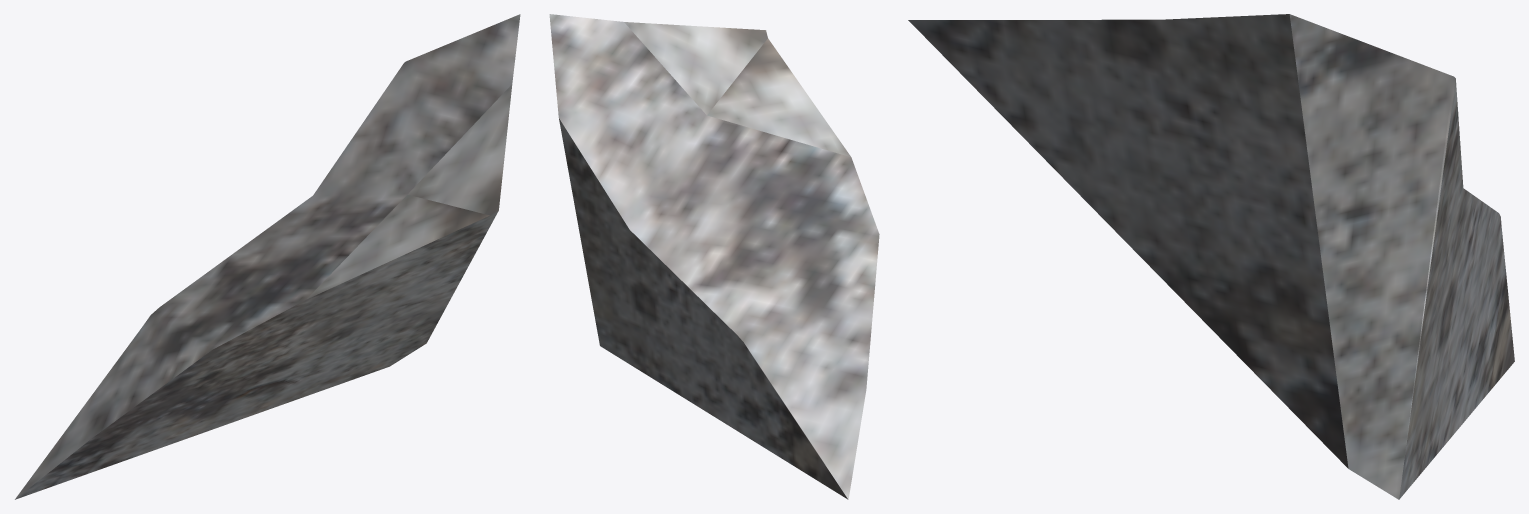
Rendered from Asteroid_Large_001_02_011_03_012.fbx.
3 renders of one model, left to right at view 1: azimuth 30°, elevation 25°; view 2: azimuth 150°, elevation 25°; view 3: azimuth 270°, elevation 25°, orthographic. The views are drawn at different scales.
Parts seen in each view (by area): view 1: Asteroid_Large_001_02_011_03_012; view 2: Asteroid_Large_001_02_011_03_012; view 3: Asteroid_Large_001_02_011_03_012.
Part boxes in pixels (x1,y1,x2,y2): Asteroid_Large_001_02_011_03_012: (15,14,520,499); Asteroid_Large_001_02_011_03_012: (549,14,879,499); Asteroid_Large_001_02_011_03_012: (908,14,1514,499).
Size of the model in its own units: 4.91 by 4.66 by 3.76.
